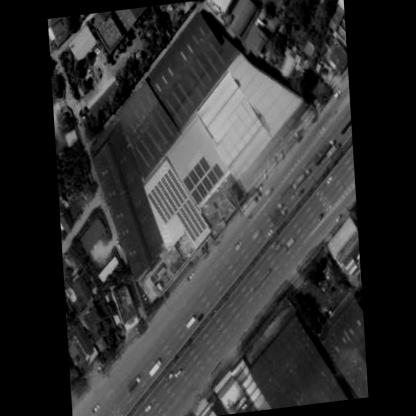solar-pv-panel: (148, 169, 206, 241), (183, 156, 223, 205)
